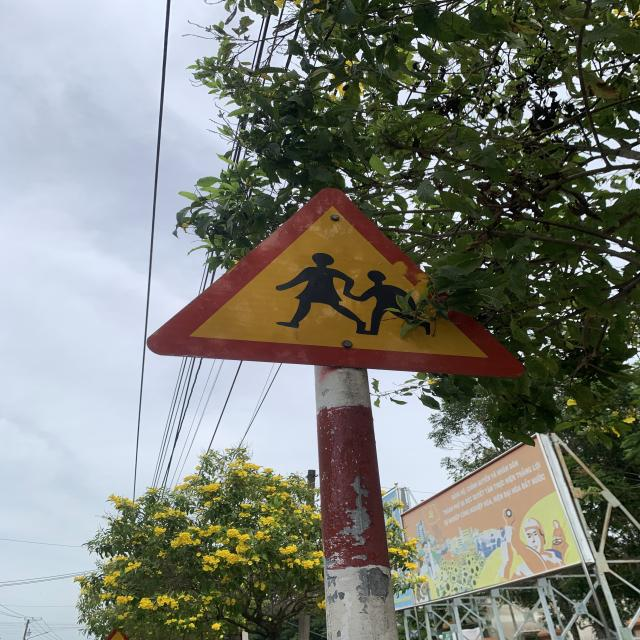Vong_Xuyen: (143, 188, 528, 378)
